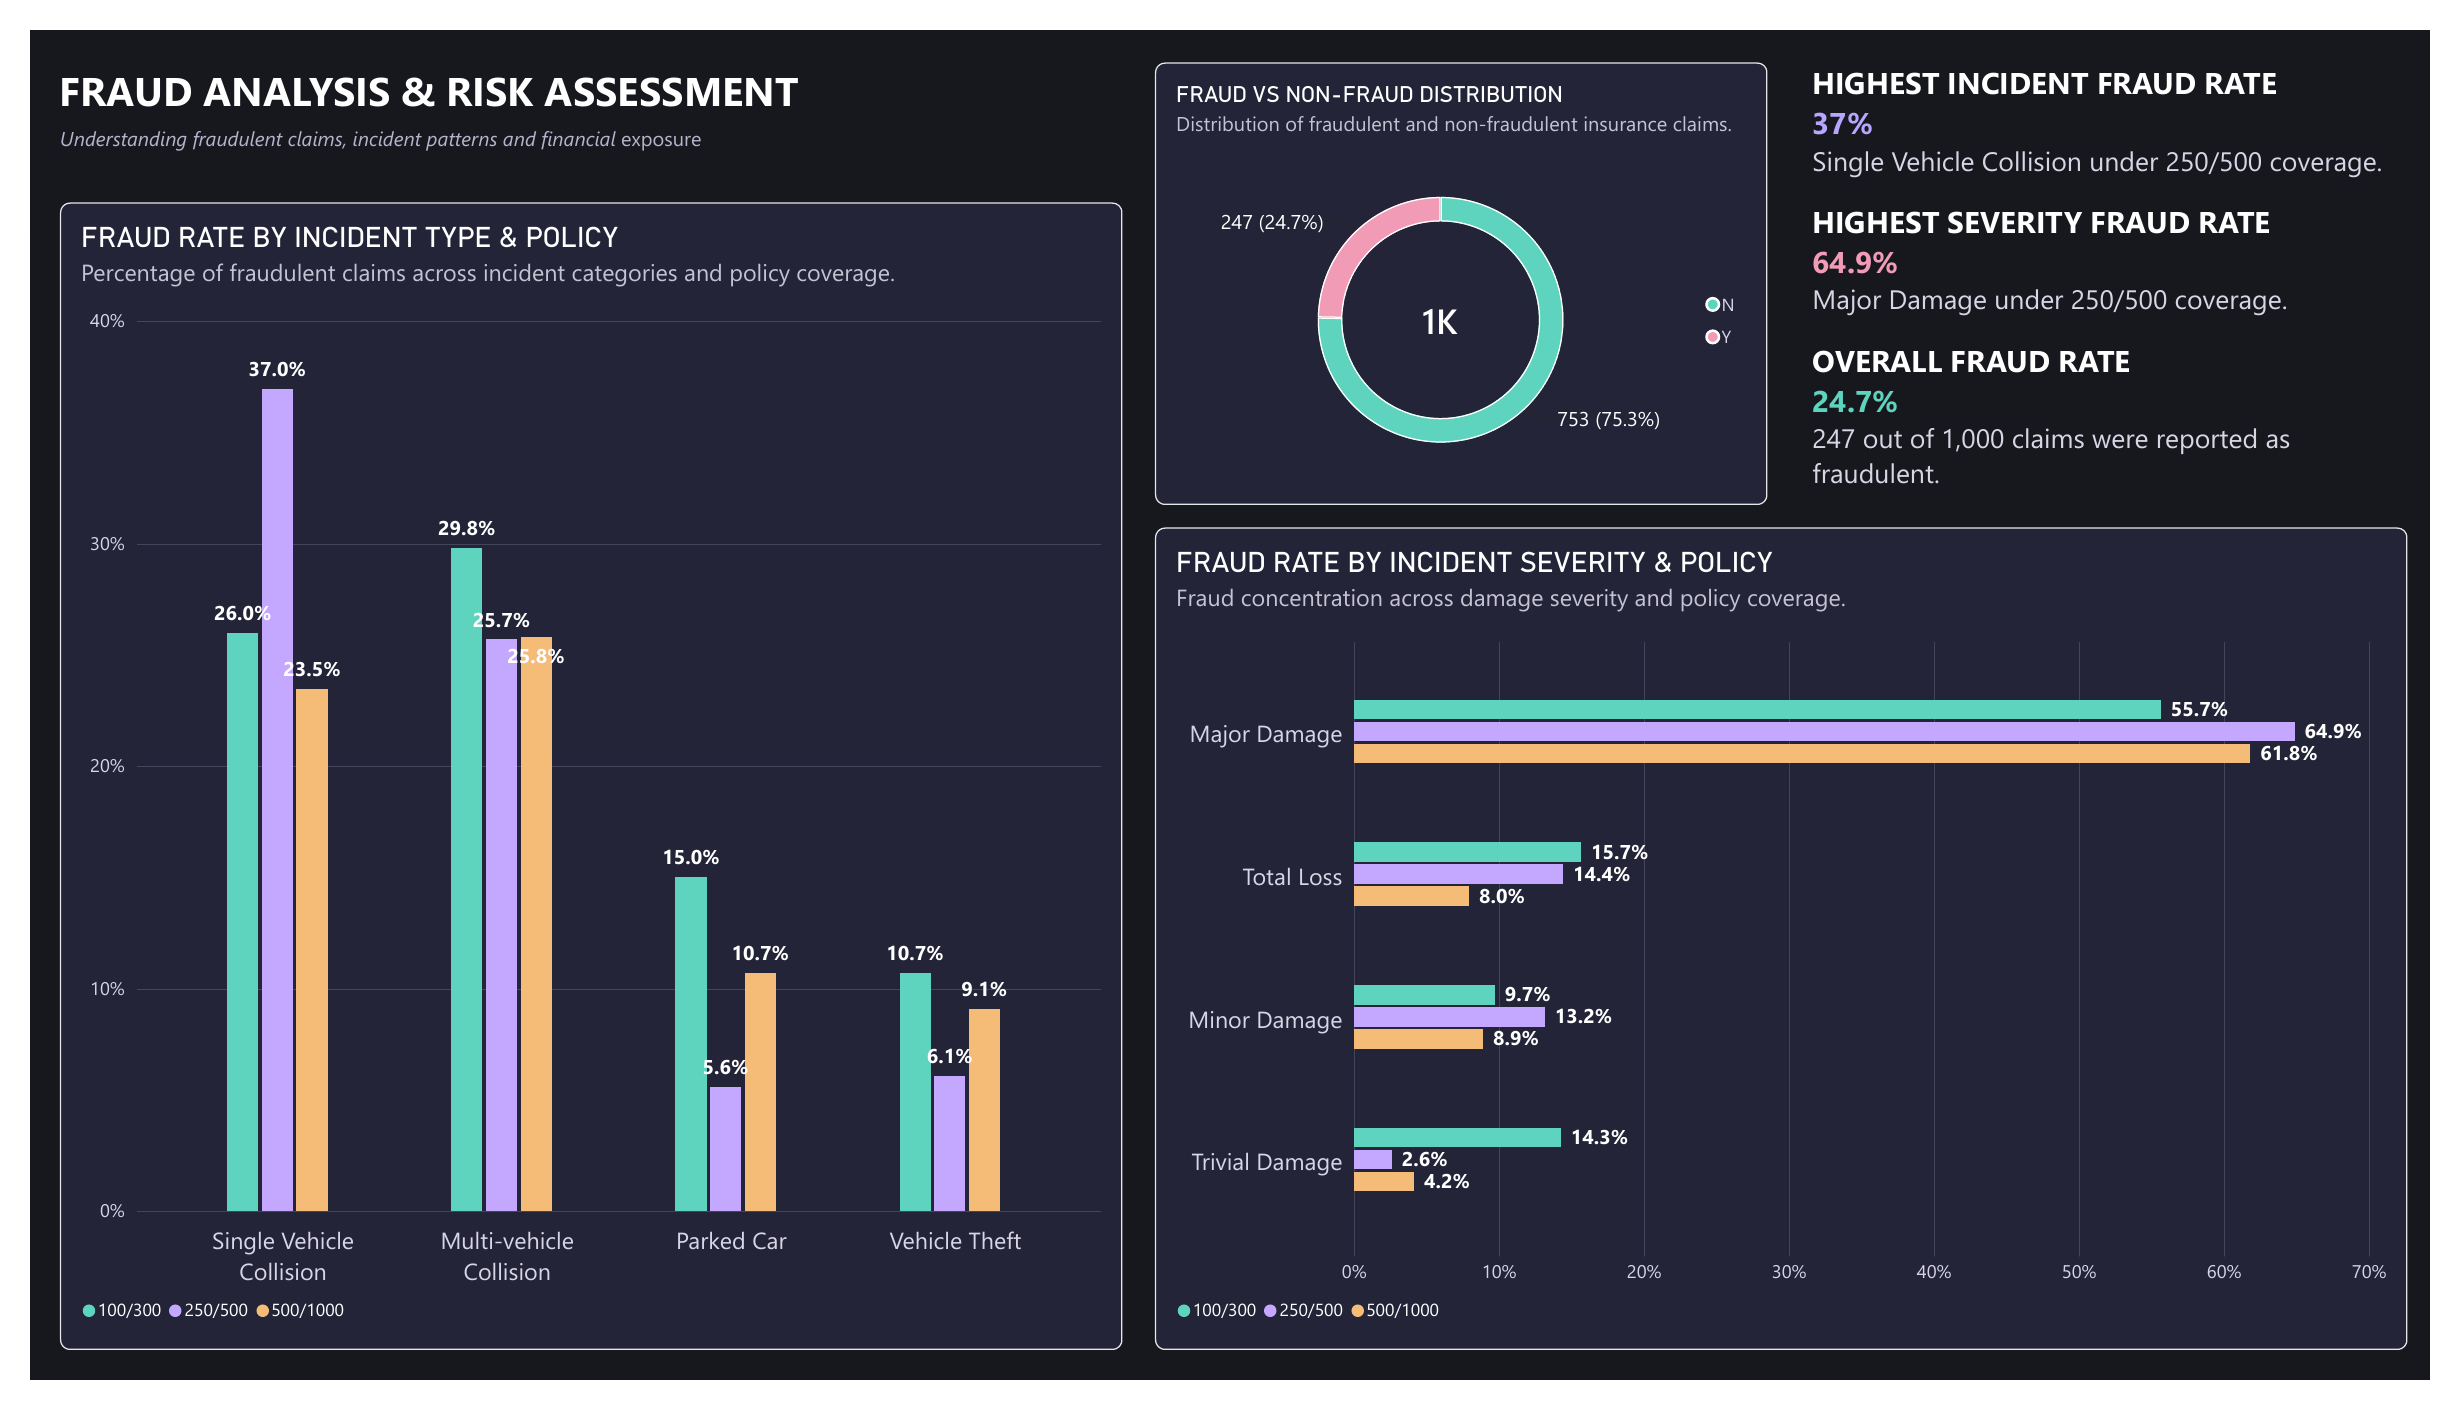

The page's visual inventory and layout, read from the dashboard file:
{"tool":"powerbi","page":{"name":"FRAUD ANALYSIS","canvas":[1920,1080],"ordinal":1},"visuals":[{"type":"textbox","box":[24,26,618,50],"z":0},{"type":"textbox","box":[24,76,526,26],"z":1000},{"type":"donutChart","title":"FRAUD VS NON-FRAUD DISTRIBUTION","fields":{"Category":["insurance_claims.fraud_reported"],"Y":["CountNonNull(insurance_claims.policy_number)"]},"box":[900,26,490,354],"z":2000},{"type":"clusteredBarChart","title":"\tFRAUD RATE BY INCIDENT SEVERITY & POLICY","fields":{"Category":["insurance_claims.incident_severity"],"Series":["insurance_claims.policy_csl"],"Y":["Avg(insurance_claims.Fraud_Status_Flag)"]},"box":[900,398,1002,658],"z":3000},{"type":"clusteredColumnChart","title":"FRAUD RATE BY INCIDENT TYPE & POLICY","fields":{"Category":["insurance_claims.incident_type"],"Series":["insurance_claims.policy_csl"],"Y":["Avg(insurance_claims.Fraud_Status_Flag)"]},"box":[24,138,850,918],"z":4000},{"type":"textbox","box":[1426,26,476,354],"z":5000}]}

Visuals, with their boxes in screenshot pixels (x1, y1, x2, y2), scaled from the page's 1920x1080 canvas onto the 2460x1410 screenshot:
textbox: 31:34:823:99
textbox: 31:99:705:133
"FRAUD VS NON-FRAUD DISTRIBUTION" donutChart: 1153:34:1781:496
"	FRAUD RATE BY INCIDENT SEVERITY & POLICY" clusteredBarChart: 1153:520:2437:1379
"FRAUD RATE BY INCIDENT TYPE & POLICY" clusteredColumnChart: 31:180:1120:1379
textbox: 1827:34:2437:496
